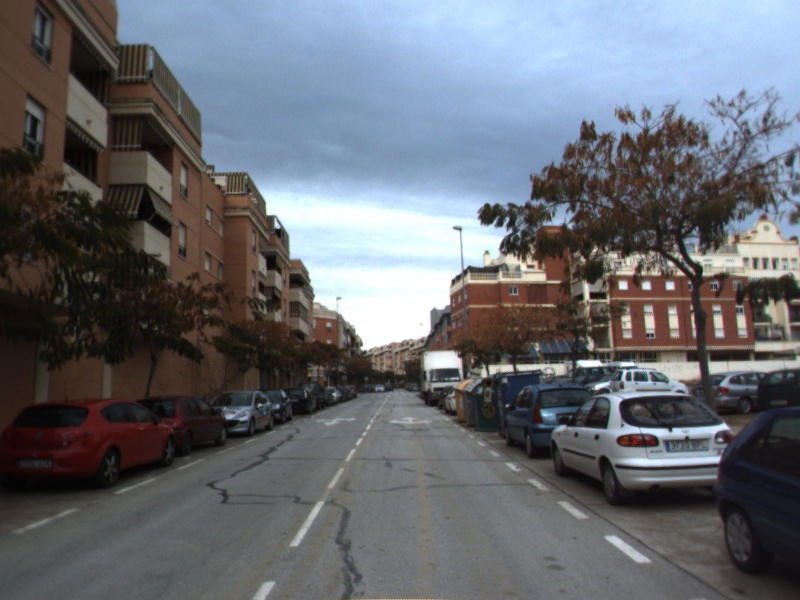STRAIGHT_LEFT_RIGHT: (386, 414, 435, 427)
